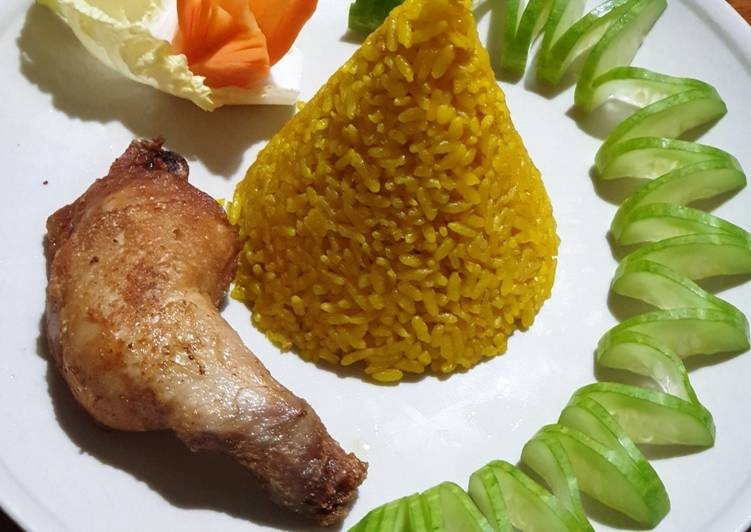tumpeng: (285, 10, 589, 365)
